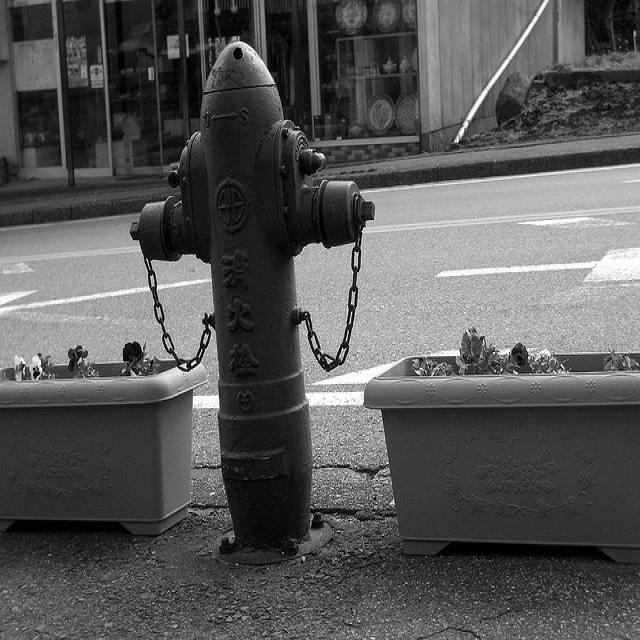fire_hydrant: (129, 26, 376, 558)
